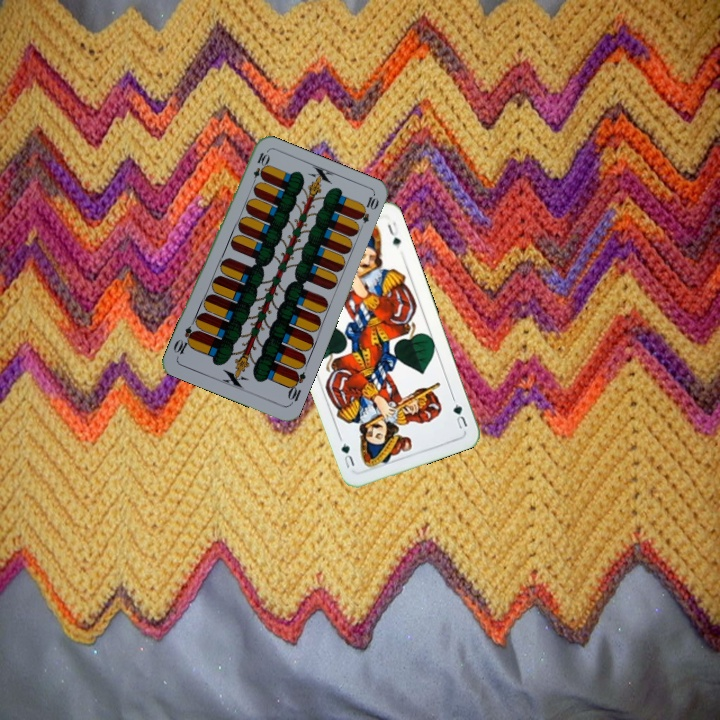E10: (283, 367, 308, 407), (248, 148, 271, 188)
GU: (449, 394, 470, 432)
